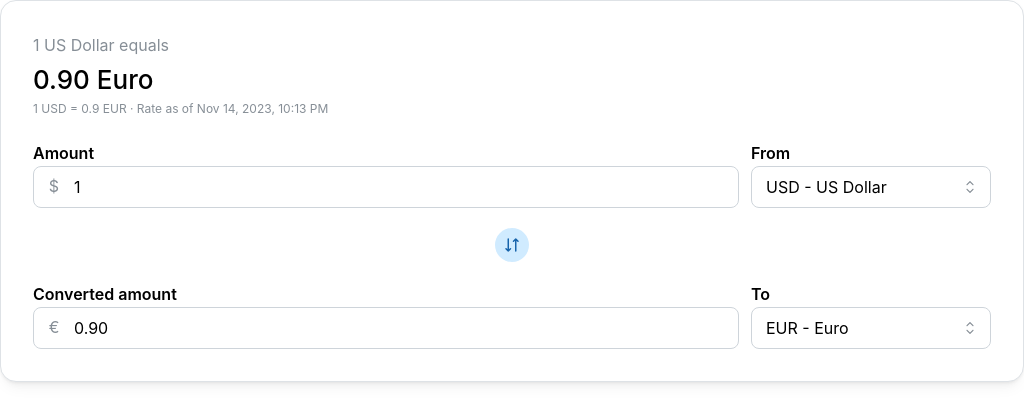
Test: CurrencyConverter › swaps instead of selecting the same currency on both sides
The image size is (1024, 402).
Expected: the heading "0.90 Euro" is shown, [33,64,153,95]
Click the dropdown labelled "To".
click(871, 328)  # box [751,307,991,349]
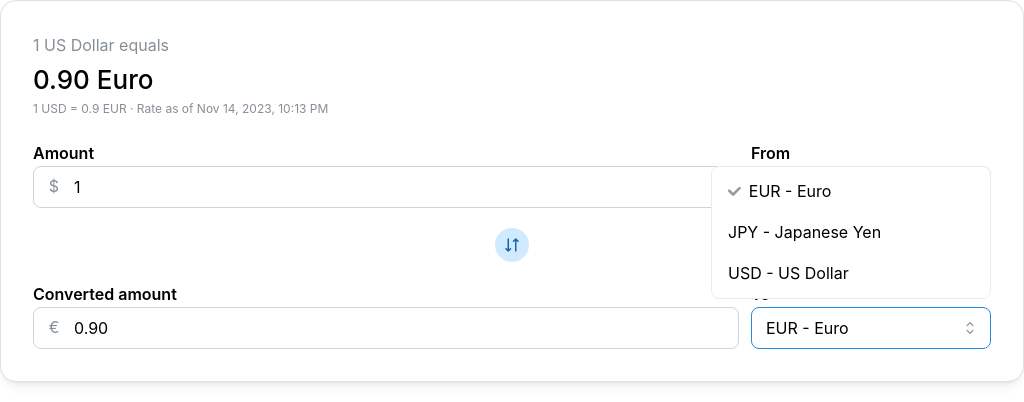
Click the option "USD - US Dollar".
click(788, 273)  # box [728,263,849,283]
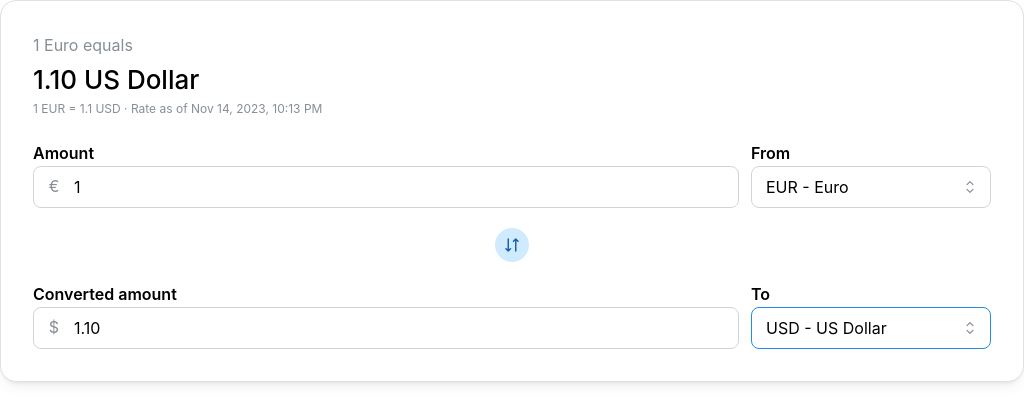
Expected: the dropdown labelled "From" holds "EUR - Euro", [751,166,991,208]
Expected: the dropdown labelled "To" holds "USD - US Dollar", [751,307,991,349]
